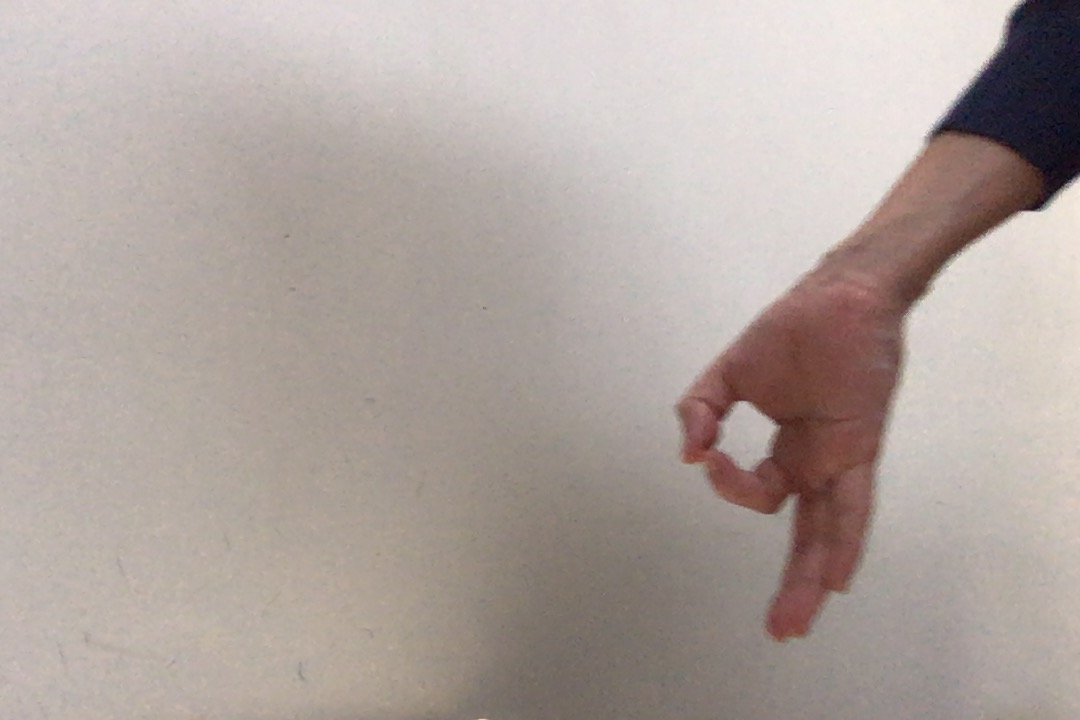oksign: (671, 262, 911, 647)
